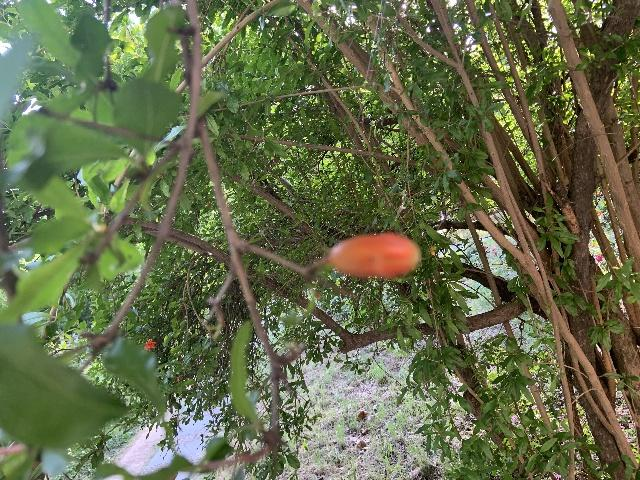bud: (325, 232, 420, 279), (206, 201, 209, 206)
flower: (143, 338, 156, 350)
